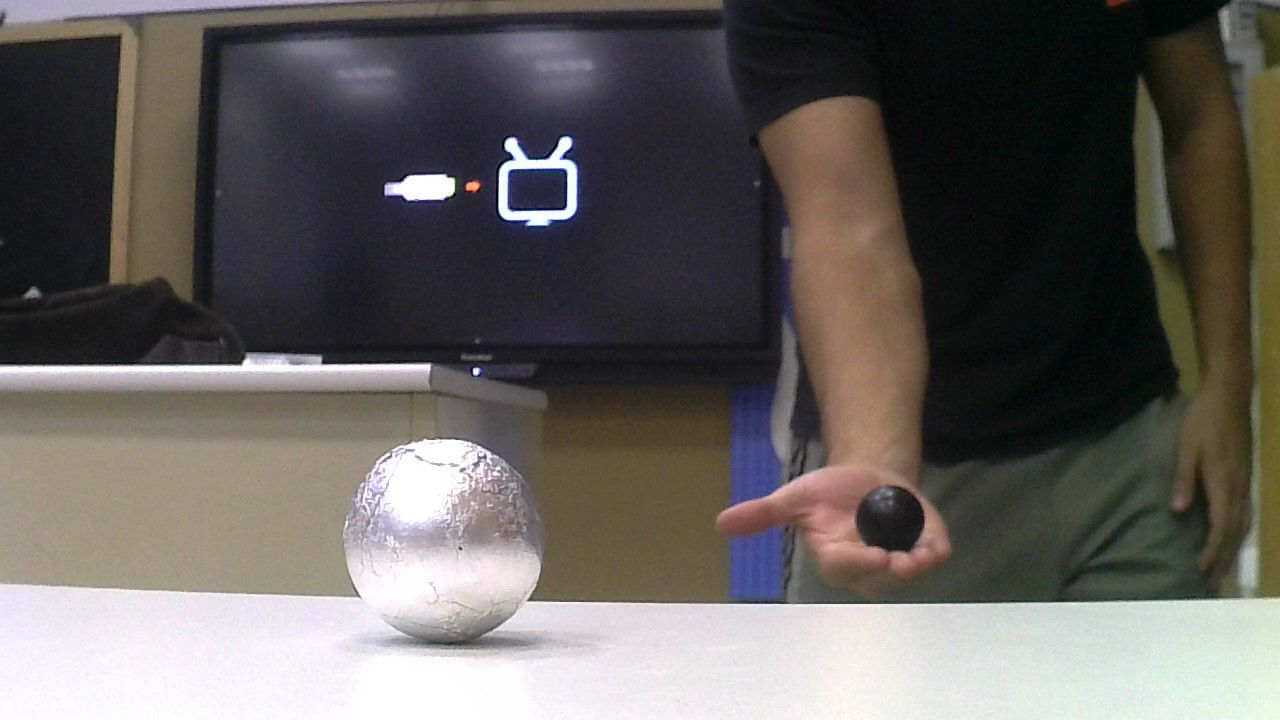black_ball: (850, 480, 929, 551)
silver_ball: (338, 430, 550, 656)
